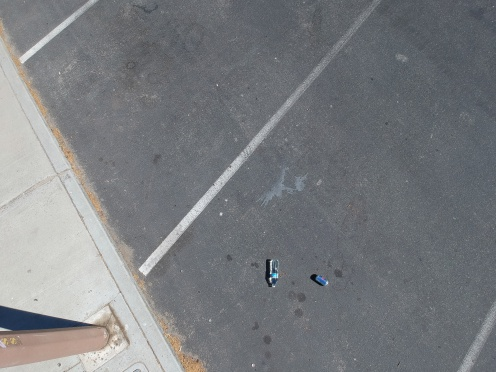bottle: (262, 255, 282, 290)
can: (311, 273, 331, 288)
